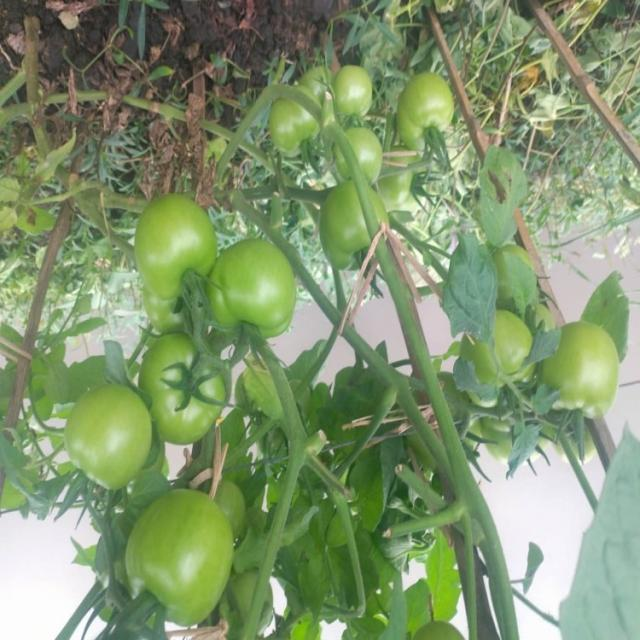tomato: (124, 486, 241, 624), (112, 159, 226, 295), (133, 319, 239, 444), (62, 379, 173, 490), (206, 227, 293, 342), (542, 316, 630, 419), (314, 183, 402, 269), (390, 58, 459, 149), (264, 87, 343, 166), (446, 309, 527, 386), (324, 124, 399, 184), (323, 55, 384, 123), (289, 62, 349, 109)
